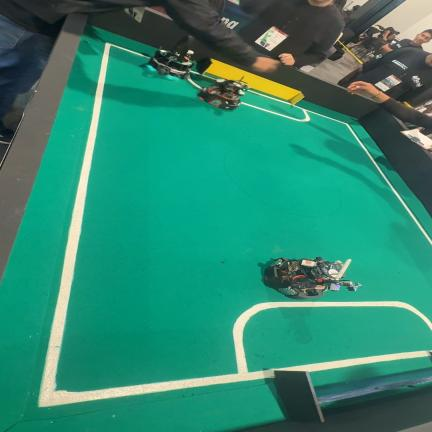cancha: (0, 26, 432, 432)
limites: (38, 43, 432, 407), (241, 90, 432, 245), (335, 120, 432, 245), (275, 351, 430, 372), (187, 76, 202, 90), (203, 74, 217, 81)
porteria: (273, 368, 432, 422), (196, 58, 304, 105)
robot: (264, 257, 361, 299), (148, 36, 194, 79), (198, 78, 249, 110)
